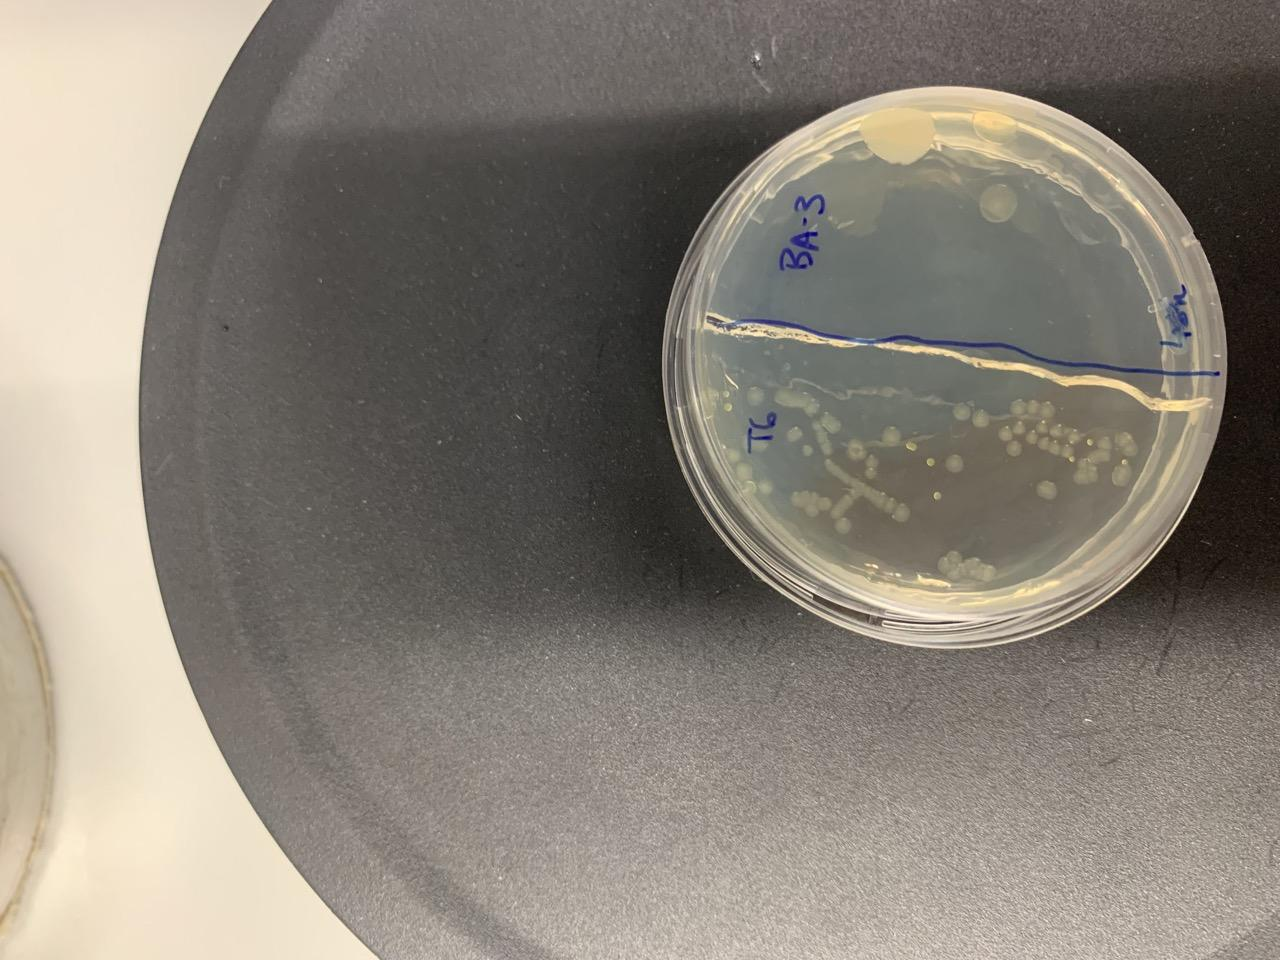colony: (1034, 478, 1058, 501), (846, 437, 867, 462), (745, 384, 766, 408), (880, 424, 901, 447), (891, 501, 912, 524), (972, 407, 992, 429), (944, 453, 965, 473), (833, 515, 853, 536), (952, 402, 971, 421), (784, 425, 803, 443), (1006, 439, 1023, 457), (998, 425, 1013, 441), (1024, 429, 1039, 445), (1012, 420, 1027, 435), (801, 444, 815, 458), (863, 467, 878, 480), (905, 440, 918, 453), (925, 456, 937, 468), (932, 490, 944, 502), (780, 360, 792, 372), (723, 401, 734, 413), (761, 347, 772, 359), (1086, 438, 1095, 447), (1068, 455, 1077, 463), (722, 389, 730, 398), (1121, 458, 1129, 466)
